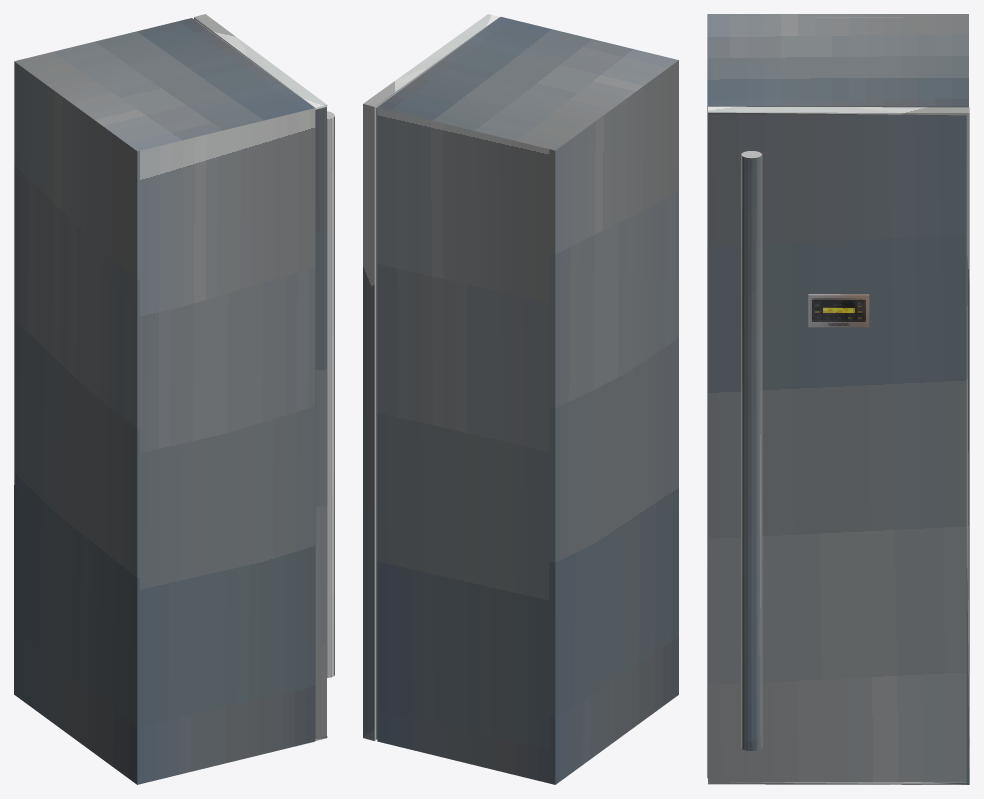
3 renders of one model, left to right at view 1: azimuth 30°, elevation 25°; view 2: azimuth 150°, elevation 25°; view 3: azimuth 270°, elevation 25°, orthographic. The views are drawn at different scales.
Visible parts, largest first — view 1: Kueche_Fridge_Side, Kueche_Fridge_Front, Kueche_Fridge_Gripper2, Kueche_Fridge_Gripper1, Kueche_Fridge_Blindings2; view 2: Kueche_Fridge_Side, Kueche_Fridge_Front, Kueche_Fridge_Blindings2, Kueche_Fridge_Blindings3; view 3: Kueche_Fridge_Front, Kueche_Fridge_Side, Kueche_Fridge_Gripper1, Kueche_Fridge_Display, Kueche_Fridge_Blindings1.
Boxes of the visible parts, box(x1,y1,x2,y2) form: Kueche_Fridge_Side: box(14, 18, 315, 784); Kueche_Fridge_Front: box(194, 14, 327, 740); Kueche_Fridge_Gripper2: box(327, 111, 334, 677); Kueche_Fridge_Gripper1: box(331, 116, 334, 677); Kueche_Fridge_Blindings2: box(194, 17, 315, 738); Kueche_Fridge_Side: box(377, 17, 678, 784); Kueche_Fridge_Front: box(363, 14, 499, 740); Kueche_Fridge_Blindings2: box(374, 17, 499, 740); Kueche_Fridge_Blindings3: box(376, 22, 492, 739); Kueche_Fridge_Front: box(708, 106, 969, 784); Kueche_Fridge_Side: box(707, 14, 968, 778); Kueche_Fridge_Gripper1: box(741, 155, 762, 750); Kueche_Fridge_Display: box(808, 294, 869, 327); Kueche_Fridge_Blindings1: box(714, 112, 969, 784).
Bounding box in the file's own units: 0.8423 × 2.35 × 0.8323.
Materials: 9 (4 with a texture image).
